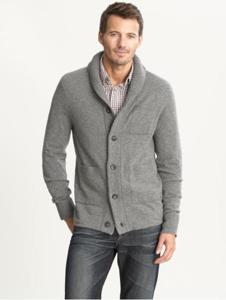C_cardigan sweater: (44, 50, 186, 238)
